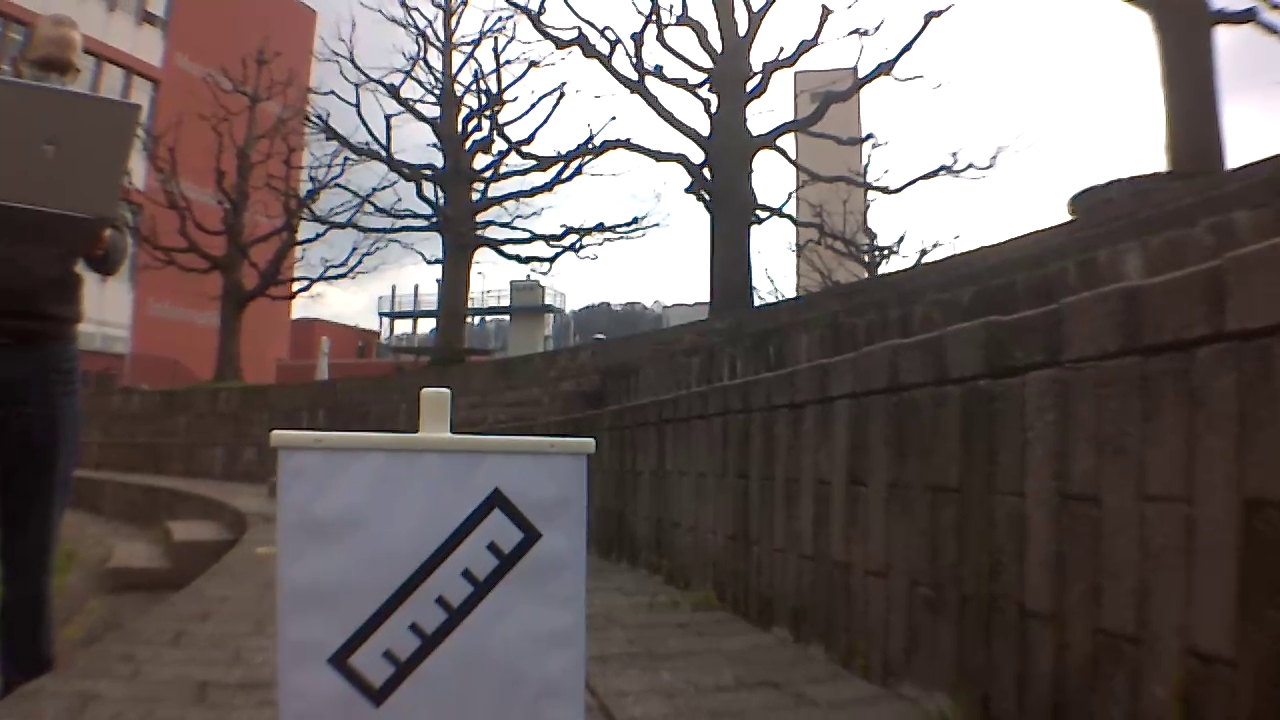ruler: (331, 479, 551, 712)
